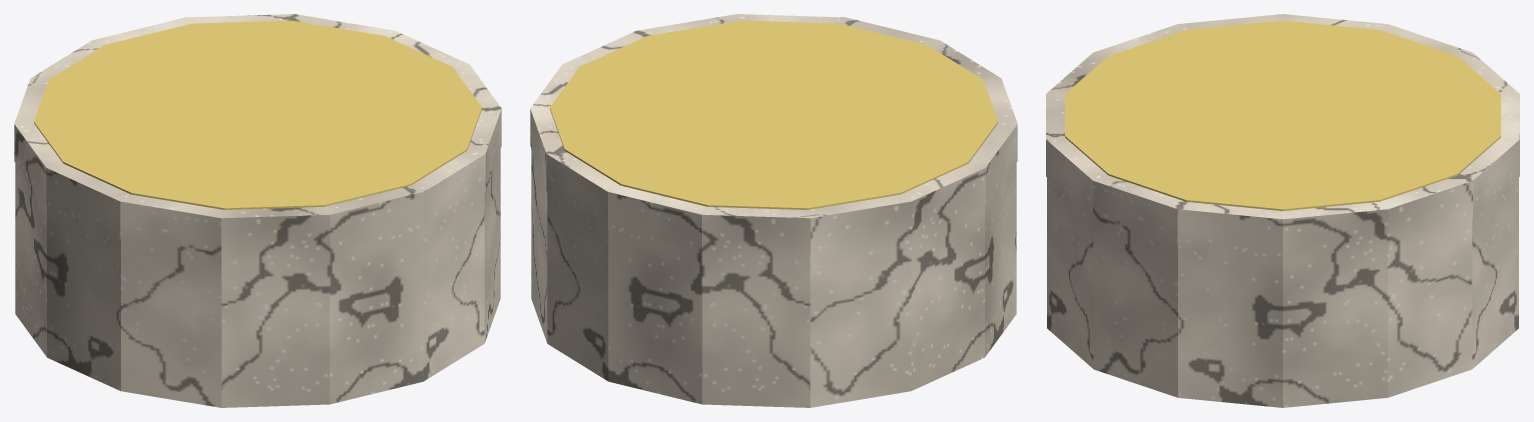
The model's file is p_formaggio.obj.
3 renders of one model, left to right at view 1: azimuth 30°, elevation 25°; view 2: azimuth 150°, elevation 25°; view 3: azimuth 270°, elevation 25°, orthographic.
Parts seen in each view (by area): view 1: crosta_000, liscio_002, crosta_001; view 2: crosta_000, liscio_002, crosta_001; view 3: crosta_000, liscio_002, crosta_001.
Boxes of the visible parts, x1=… form: crosta_000: x1=15, y1=149, x2=500, y2=407; liscio_002: x1=34, y1=20, x2=481, y2=209; crosta_001: x1=14, y1=14, x2=501, y2=255; crosta_000: x1=531, y1=149, x2=1016, y2=407; liscio_002: x1=550, y1=20, x2=997, y2=209; crosta_001: x1=530, y1=14, x2=1017, y2=255; crosta_000: x1=1047, y1=177, x2=1518, y2=407; liscio_002: x1=1065, y1=20, x2=1500, y2=210; crosta_001: x1=1046, y1=14, x2=1519, y2=256.
Bounding box in the file's own units: 0.261 × 0.113 × 0.2544.
Materials: 3 (2 with a texture image).
